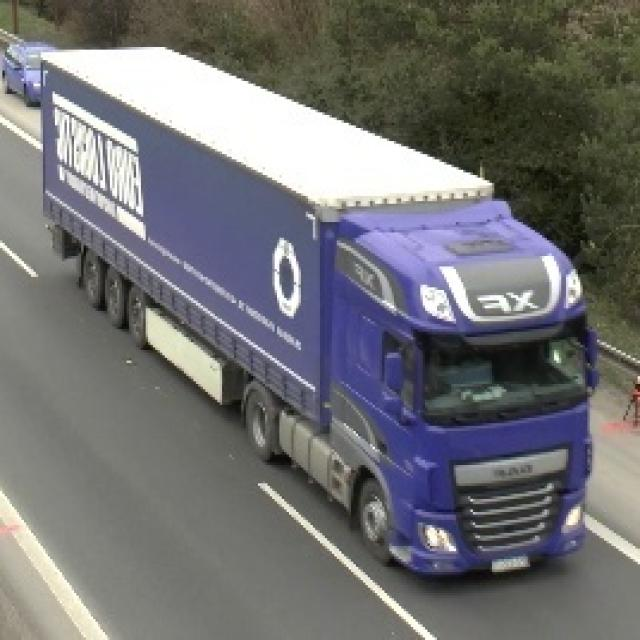TRUCK: (44, 51, 596, 574)
